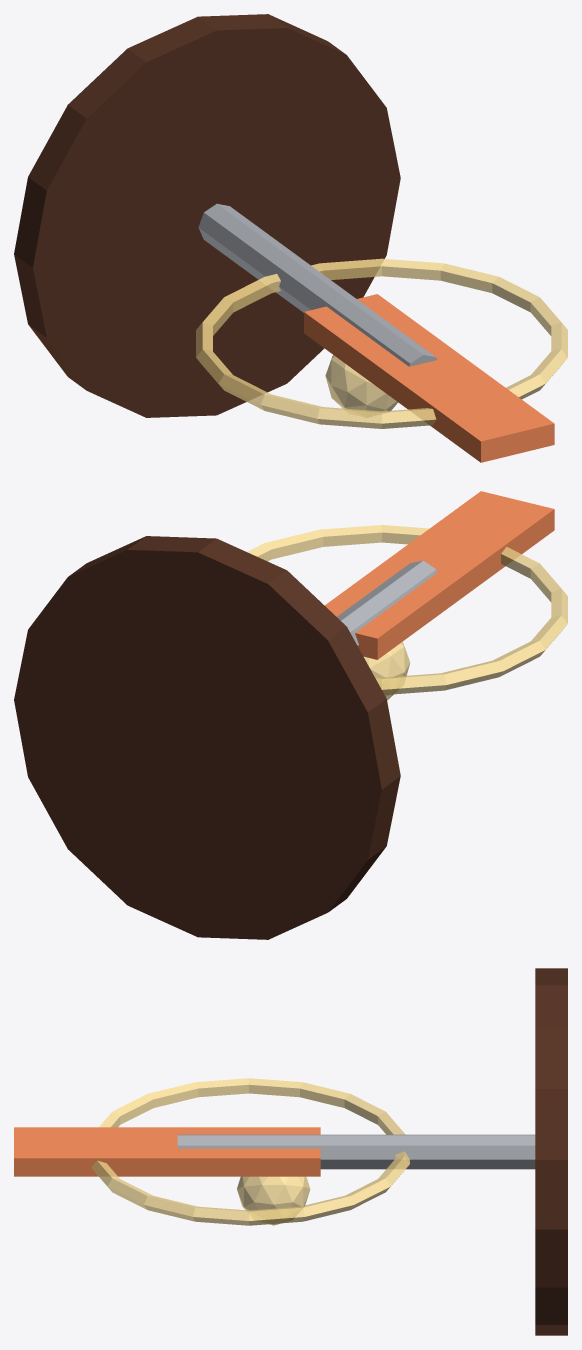
The model's file is 05_item_weapon_finish_overlay_5.glb.
3 renders of one model, top to bottom at view 1: azimuth 30°, elevation 25°; view 2: azimuth 150°, elevation 25°; view 3: azimuth 270°, elevation 25°, orthographic. The views are drawn at different scales.
Parts seen in each view (by area): view 1: display_base, finish_blade_preview, finish_orbit, weapon_handle_preview, rarity_gem; view 2: display_base, finish_blade_preview, finish_orbit, weapon_handle_preview, rarity_gem; view 3: finish_blade_preview, display_base, finish_orbit, weapon_handle_preview, rarity_gem.
Part boxes in pixels (box(x1,y1,x2,y2)): display_base: box(14, 14, 400, 417); finish_blade_preview: box(304, 294, 554, 462); finish_orbit: box(196, 258, 567, 428); weapon_handle_preview: box(198, 203, 437, 366); rarity_gem: box(325, 355, 397, 411); display_base: box(14, 536, 400, 939); finish_blade_preview: box(325, 491, 554, 659); finish_orbit: box(247, 525, 567, 694); weapon_handle_preview: box(337, 560, 437, 646); rarity_gem: box(364, 642, 410, 700); finish_blade_preview: box(14, 1127, 320, 1176); display_base: box(535, 968, 567, 1335); finish_orbit: box(91, 1078, 409, 1225); weapon_handle_preview: box(177, 1134, 535, 1169); rarity_gem: box(237, 1176, 310, 1225).
Bounding box in the file's own units: 0.9 × 0.9 × 1.36.
